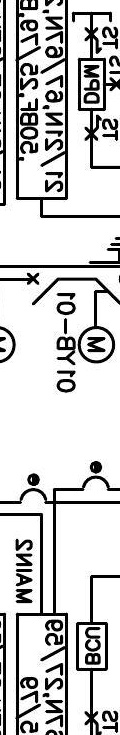115_breaker: (27, 272, 59, 306)
BCU: (75, 621, 109, 672)
DPM: (78, 58, 106, 112)
